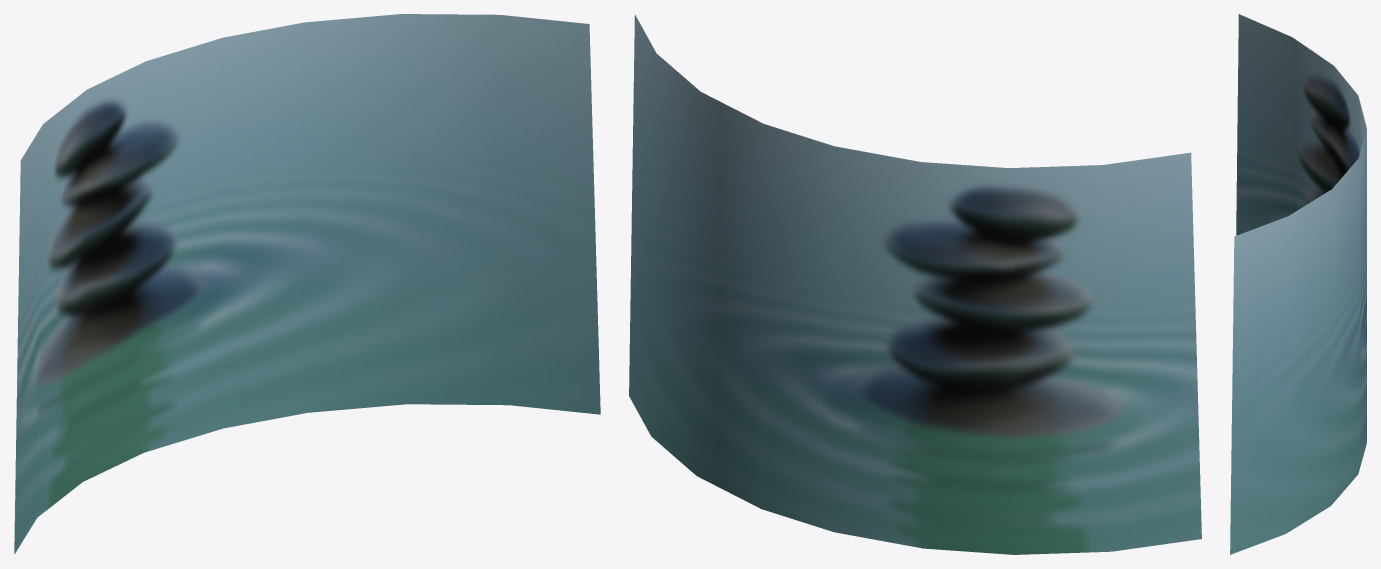
The model's file is Zen_Env.fbx.
3 views of the same model, side by side, from view 1: azimuth 30°, elevation 25°; view 2: azimuth 150°, elevation 25°; view 3: azimuth 270°, elevation 25° (orthographic). The views are drawn at different scales.
Parts seen in each view (by area): view 1: Zen_Env; view 2: Zen_Env; view 3: Zen_Env.
Part boxes in pixels (x1,y1,x2,y2): Zen_Env: (14,14,600,554); Zen_Env: (629,15,1201,554); Zen_Env: (1230,14,1366,554).
Size of the model in its own units: 35.95 by 23.28 by 9.06.
